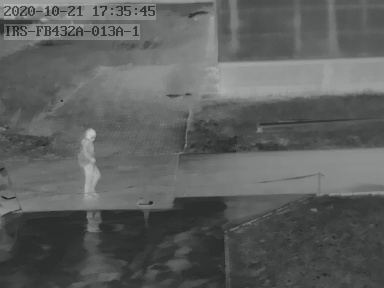person: (77, 124, 101, 198)
